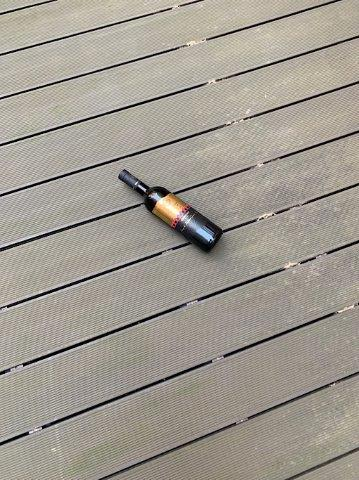botolkaca: (117, 169, 223, 253)
